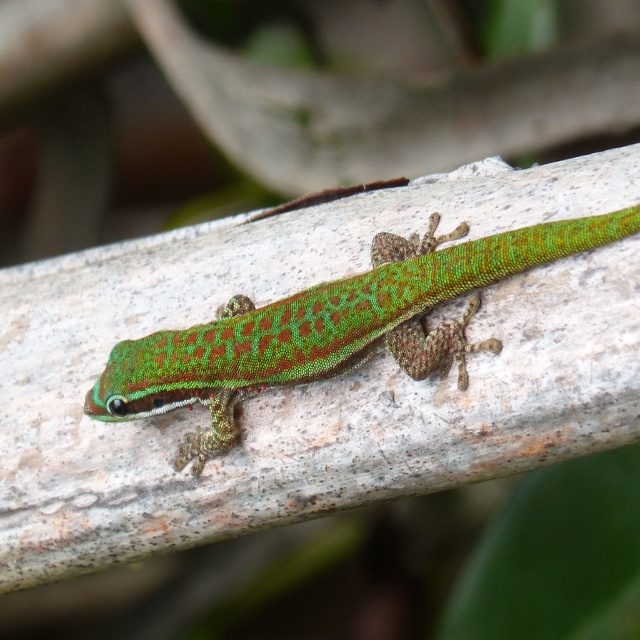Lizard: (95, 187, 629, 485)
